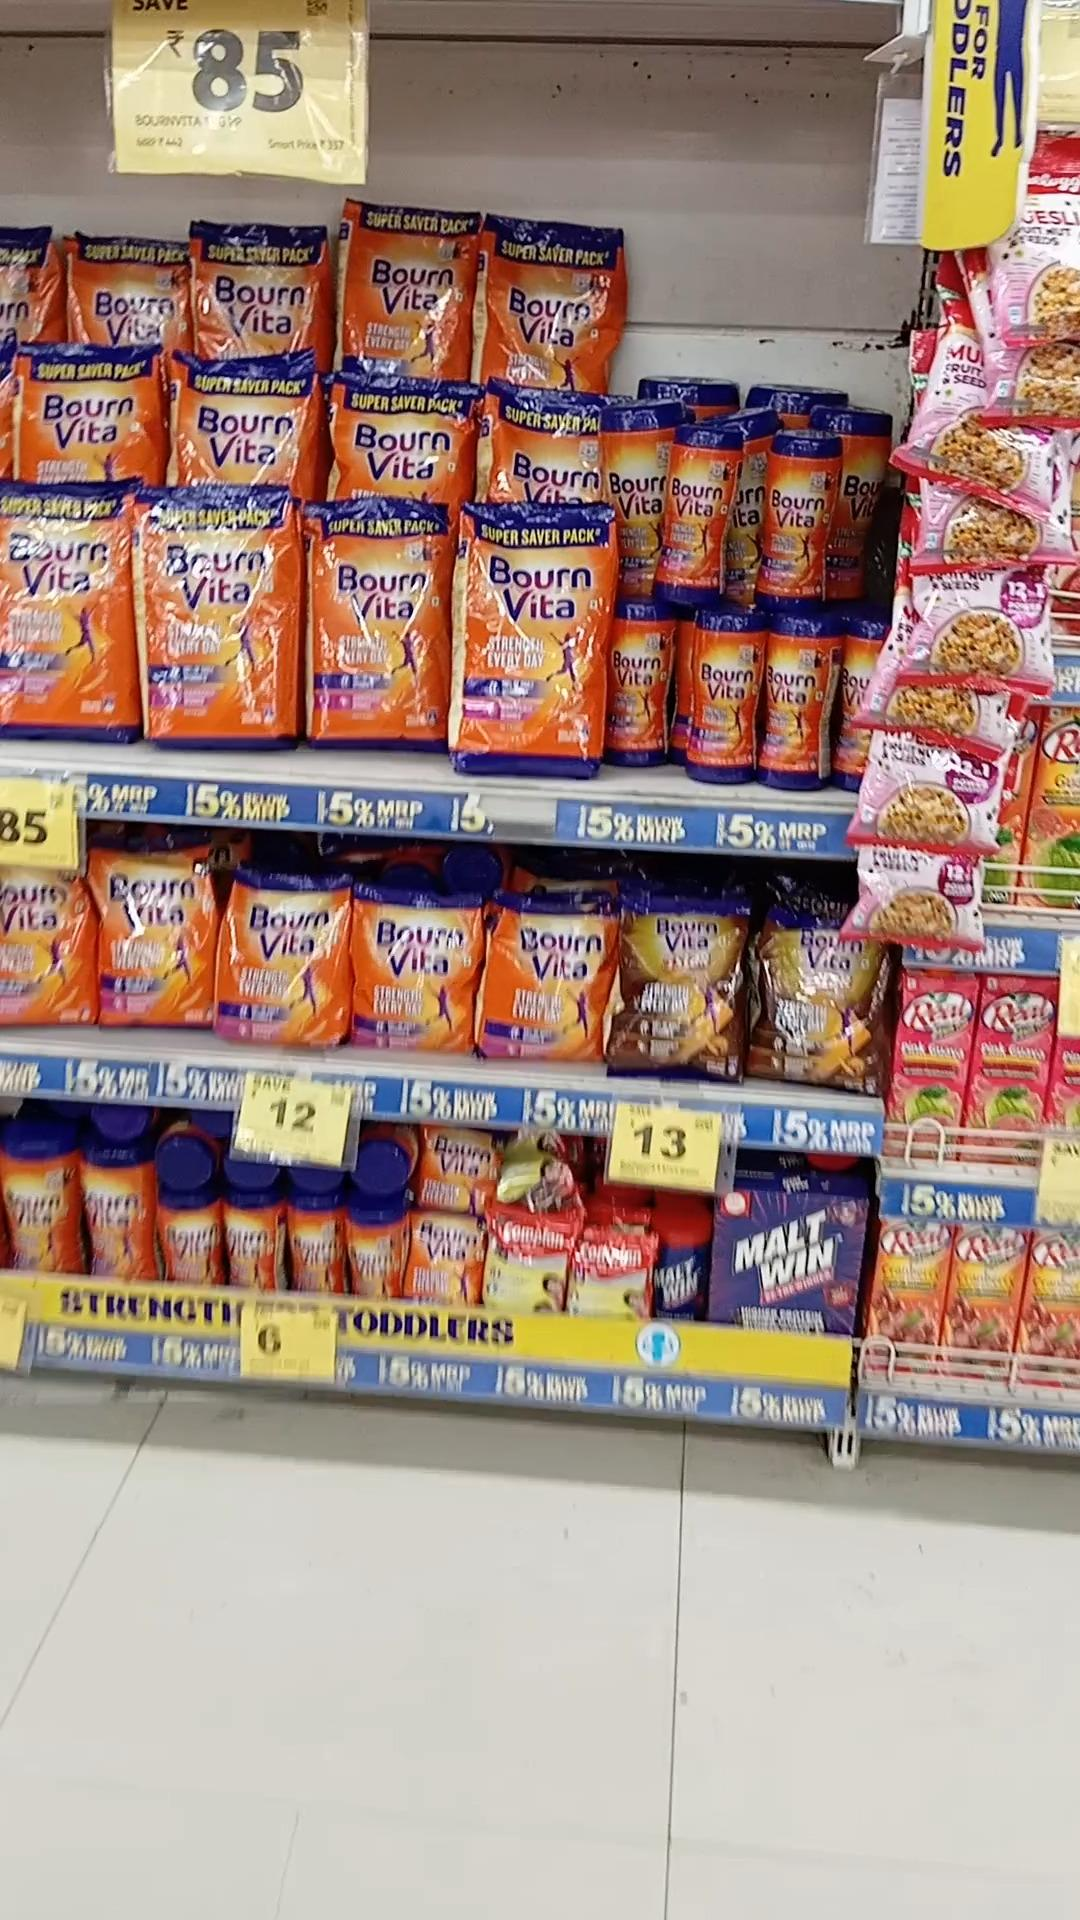BOURN_VITA_1_KG_POUCH: (137, 489, 289, 748), (471, 516, 607, 769), (306, 513, 448, 754), (0, 489, 129, 742), (483, 215, 633, 378), (351, 204, 469, 384), (0, 345, 146, 487), (190, 219, 318, 359), (177, 355, 302, 487), (339, 380, 464, 509), (73, 225, 179, 343), (495, 390, 595, 505)
BOURN_VITA_200_G_JAR: (347, 1211, 402, 1295)
BOURN_VITA_500_G_JAR: (665, 423, 733, 603), (762, 433, 831, 605), (698, 611, 762, 786), (615, 600, 674, 774), (766, 613, 820, 795), (285, 1199, 338, 1298), (152, 1204, 211, 1288), (227, 1197, 277, 1292)
BOURN_VITA_500_G_POUCH: (352, 889, 479, 1056), (485, 895, 597, 1060), (224, 876, 336, 1040), (103, 855, 200, 1030), (0, 866, 86, 1025)
BOURN_VITA_75_G_POUCH: (407, 1209, 473, 1305)
BOURN_VITA_FIVE_STAR_MAGIC_500_G_JAR: (78, 1153, 146, 1283), (4, 1147, 61, 1279)
BOURN_VITA_FIVE_STAR_MAGIC_500_G_POUCH: (622, 899, 752, 1081), (754, 909, 877, 1095)
